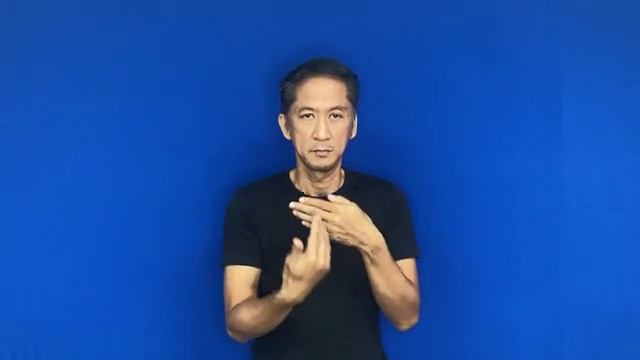bread: (276, 184, 375, 306)
